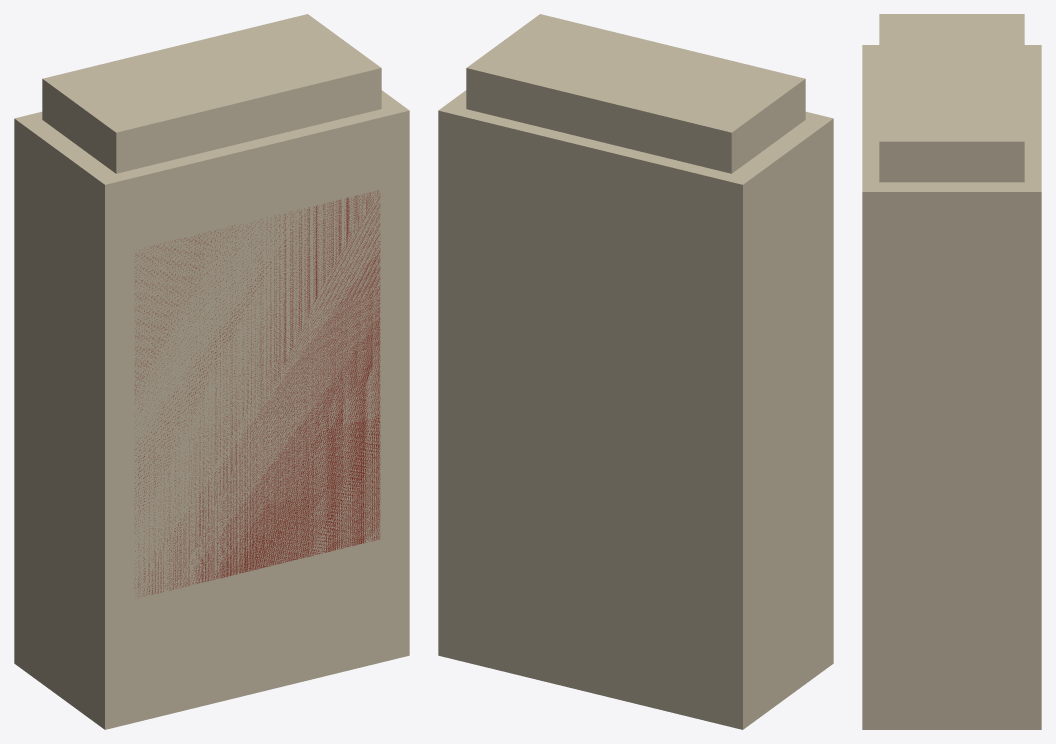
File: cereal-box.glb
The picture shows the model from 3 angles, left to right: view 1: azimuth 30°, elevation 25°; view 2: azimuth 150°, elevation 25°; view 3: azimuth 270°, elevation 25°; orthographic projection.
Parts seen in each view (by area): view 1: paper, accent-warm; view 2: paper; view 3: paper.
Boxes of the visible parts, bbox=[...] form: paper: bbox=[14, 14, 409, 729]; accent-warm: bbox=[134, 190, 380, 598]; paper: bbox=[438, 14, 833, 729]; paper: bbox=[862, 14, 1041, 729].
Bounding box in the file's own units: 0.155 × 0.285 × 0.08.
